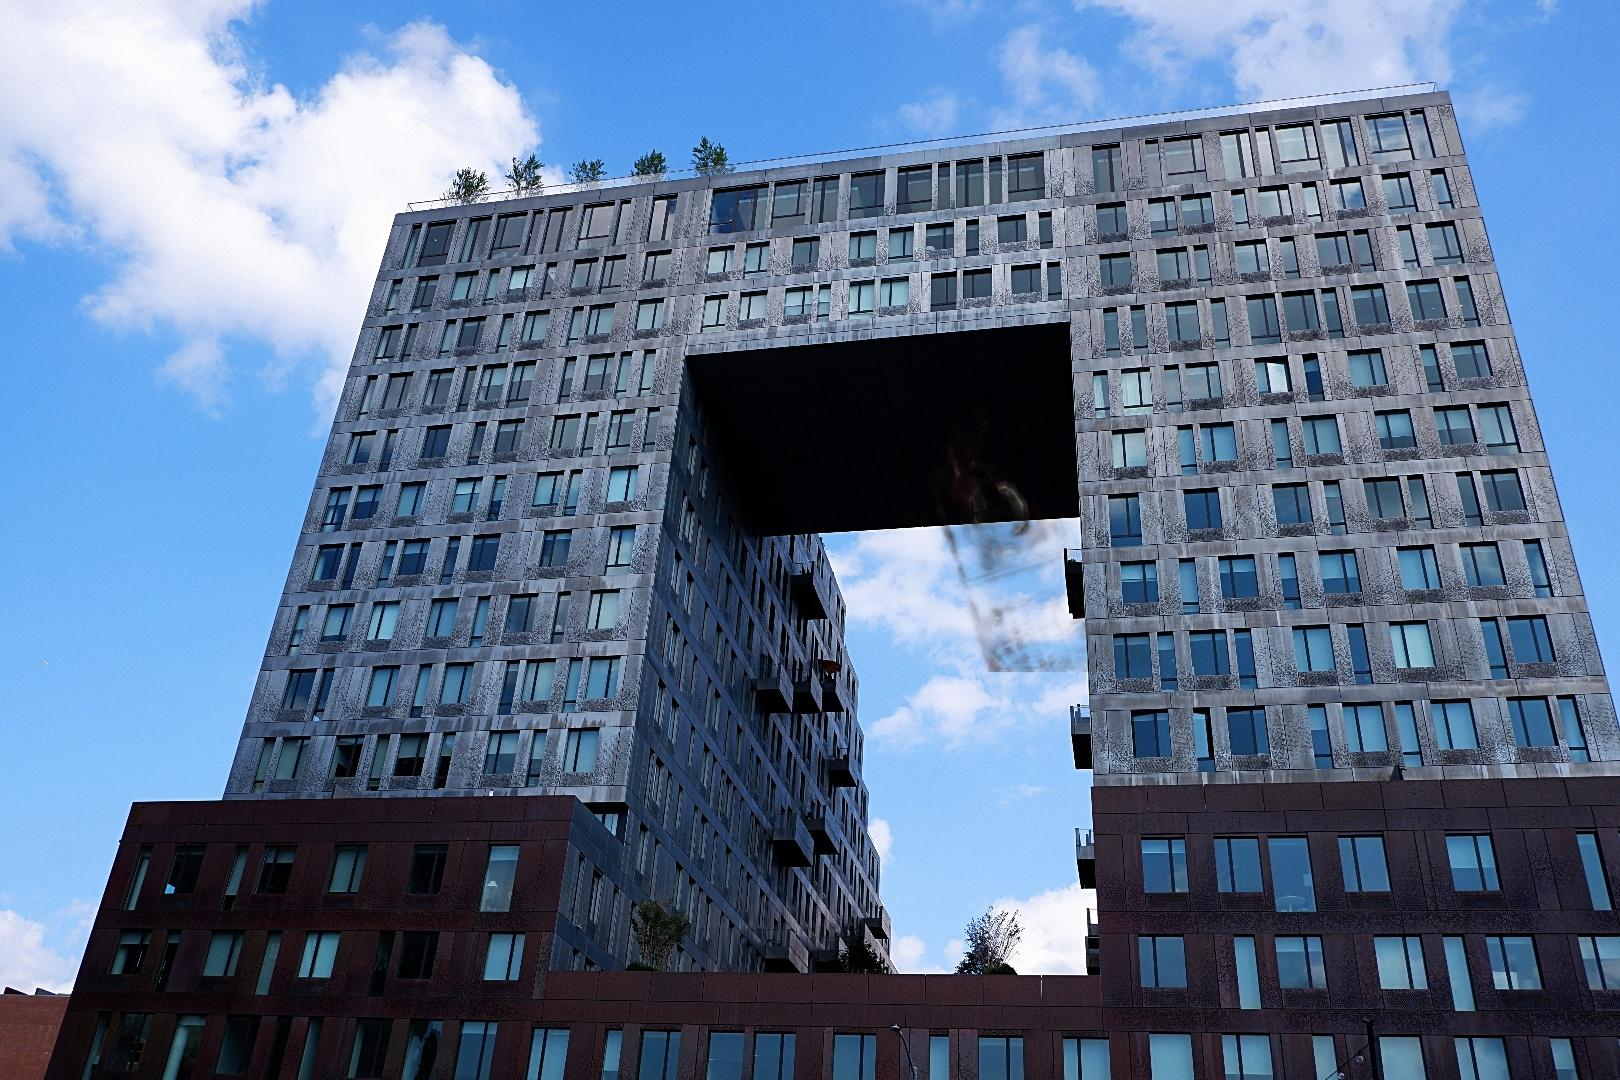paper: (669, 304, 1181, 673)
